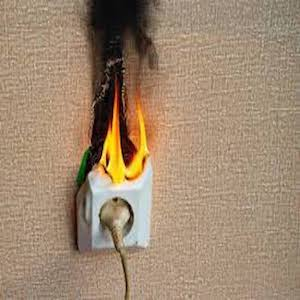heat: (85, 55, 147, 182)
